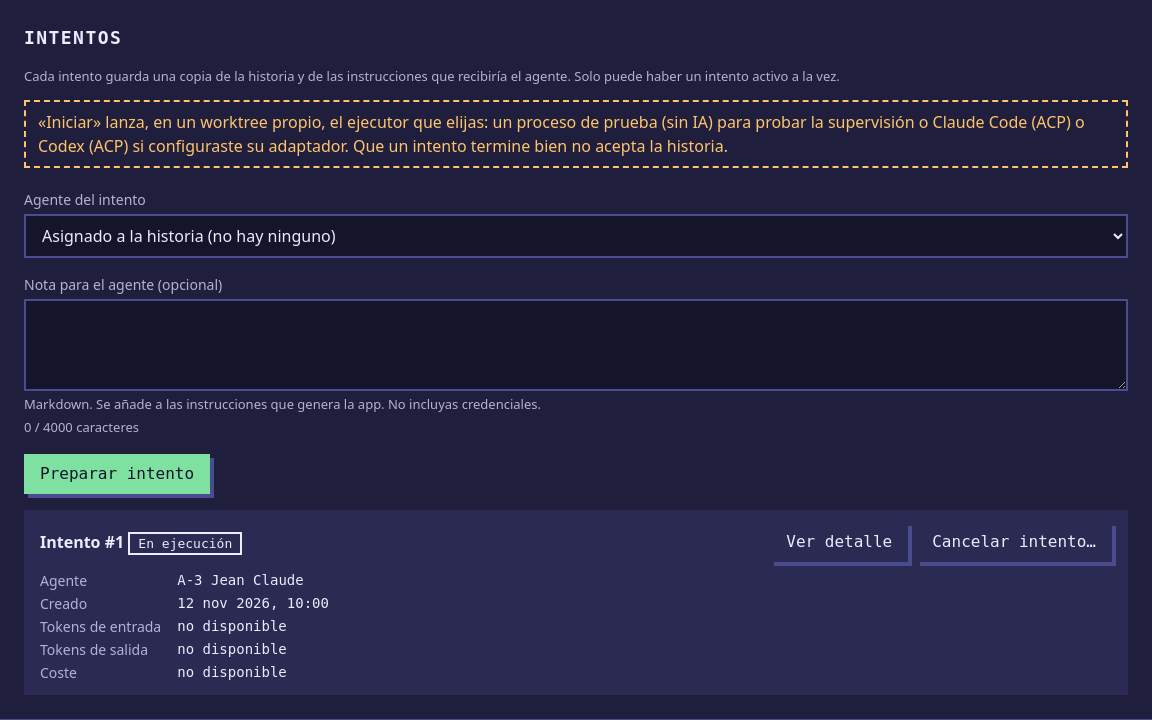
Test case: Estados del intento › si el intento termina con la confirmación de cancelar abierta, se cierra y el foco va al título
Later steps or results of the test are not shown.
Click the button "Cancelar intento…".
click(1014, 542)  # box [916,522,1112,562]
(page scrolled)
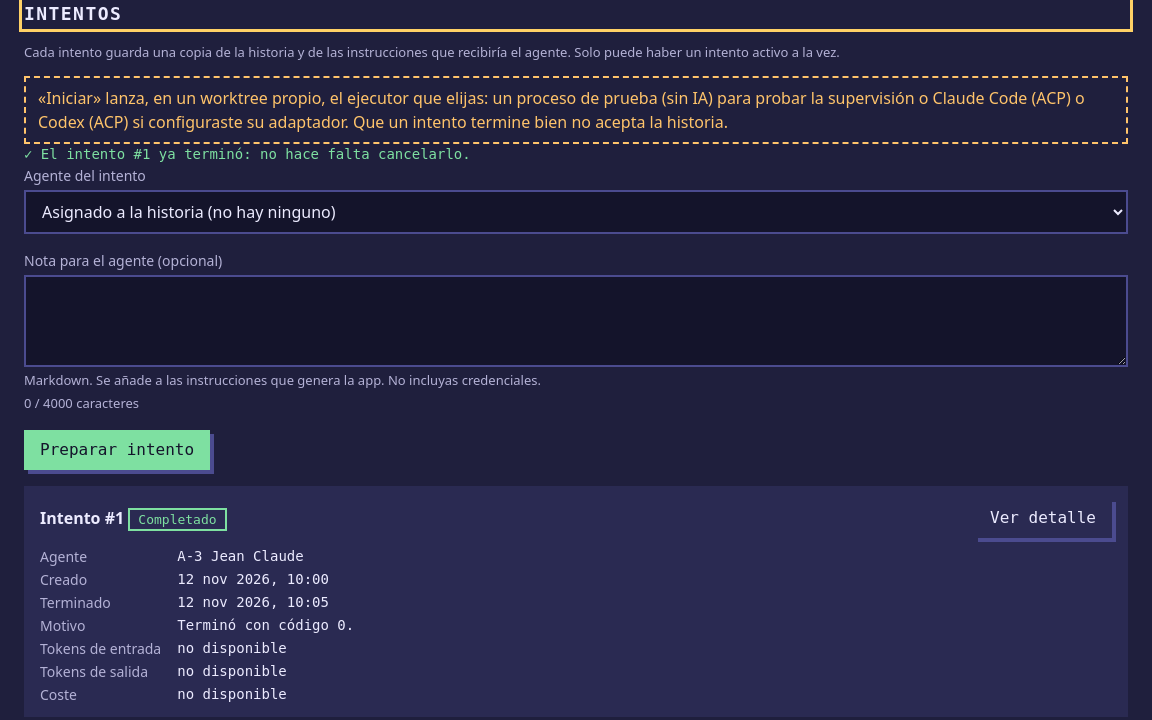
Result: the text "✓ El intento #1 ya terminó: no hace falta cancelarlo." is shown at [24,146,471,162]
